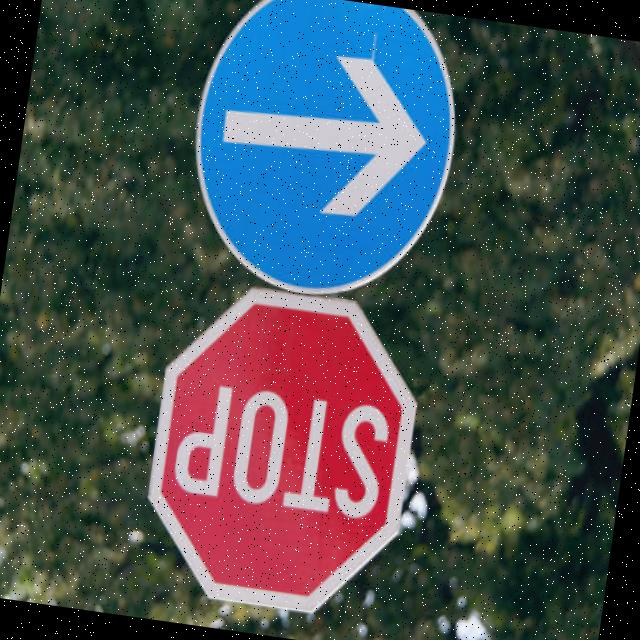stop: (132, 273, 438, 637)
